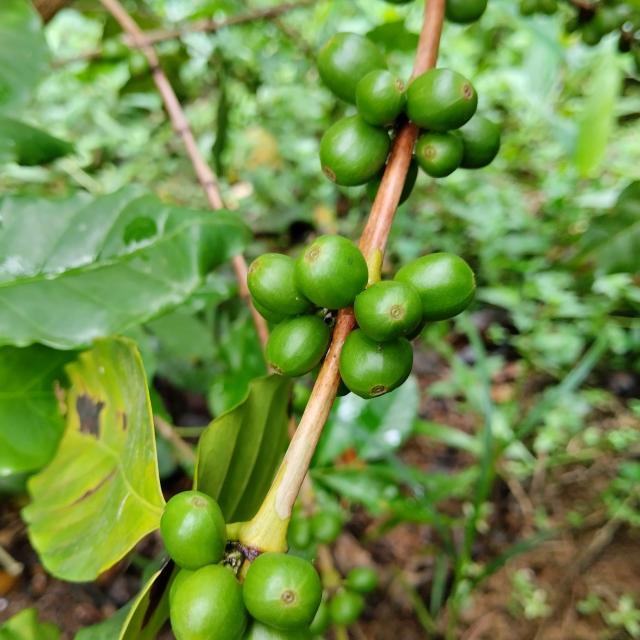green: (243, 553, 322, 630), (170, 566, 248, 640), (394, 252, 476, 322), (294, 235, 368, 309), (160, 491, 227, 572), (339, 329, 414, 400), (319, 114, 391, 186), (318, 31, 387, 103), (406, 68, 478, 131), (247, 253, 311, 321), (354, 280, 423, 342), (265, 315, 331, 378), (356, 69, 406, 125), (453, 115, 501, 168), (415, 132, 464, 177)
